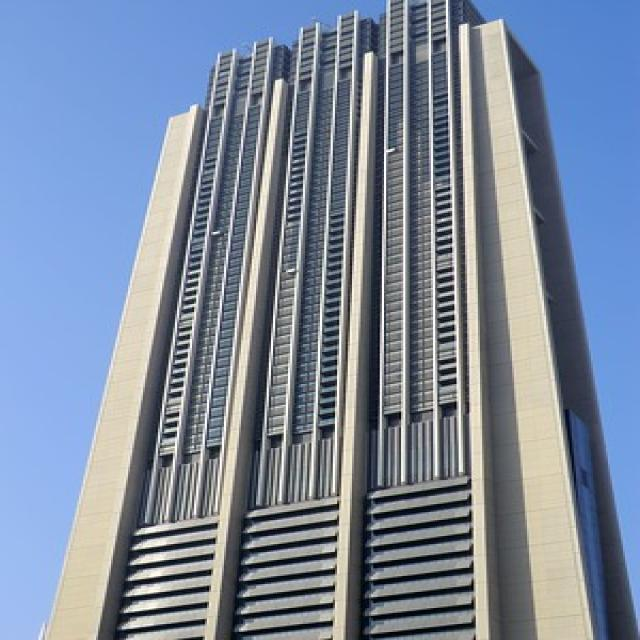building: (30, 0, 636, 638)
